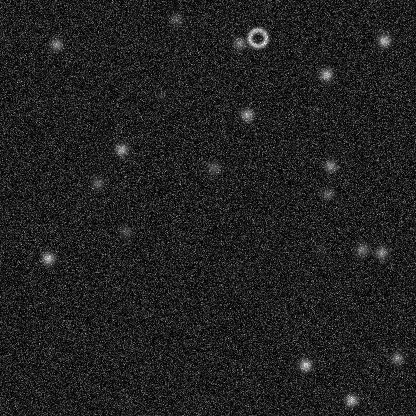Ring: (245, 25, 269, 49)
Spot: (238, 106, 254, 122), (354, 241, 370, 257), (389, 350, 405, 366), (205, 159, 221, 175), (297, 356, 313, 372), (343, 391, 359, 407), (312, 242, 328, 258), (318, 66, 334, 82), (151, 87, 167, 103), (89, 175, 105, 191), (113, 141, 129, 157), (320, 185, 336, 201), (116, 223, 132, 239), (48, 36, 64, 52), (375, 32, 391, 48), (231, 35, 247, 51), (373, 244, 389, 260), (167, 10, 183, 26), (322, 157, 338, 173), (40, 250, 56, 266)
